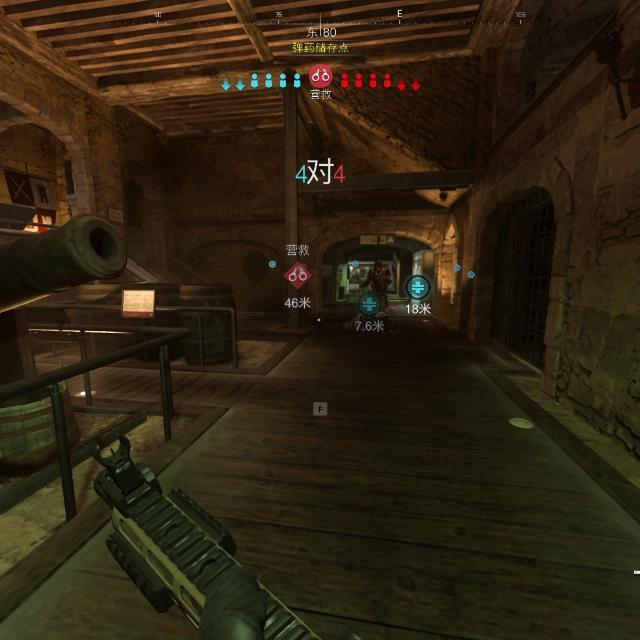MW2_body: (363, 262, 392, 313), (355, 268, 371, 296)
